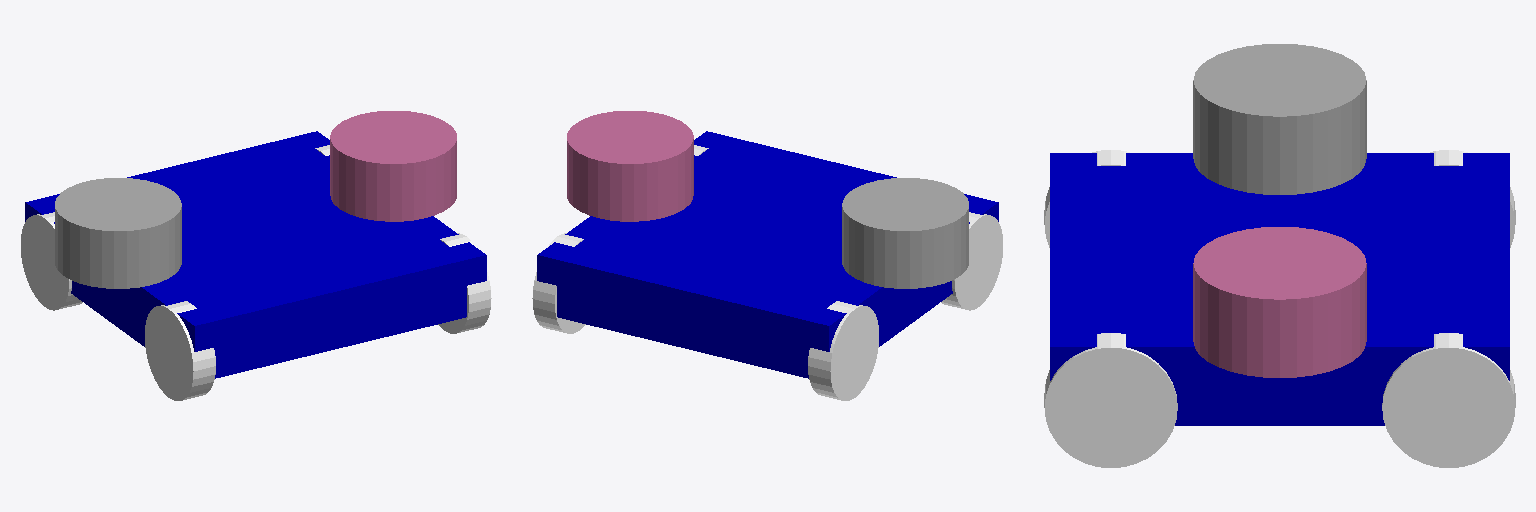
URDF robot description (rc_baseplate):
<?xml version="1.0"?>
<robot name="rc_baseplate">
  <material name="blue">
    <color rgba="0 0 0.8 1" />
  </material>

  <material name="white">
    <color rgba="1 1 1 1" />
  </material>

<link name="base_footprint">
  <visual>
    <origin xyz="0 0 0" rpy="0 0 0" />
    <geometry>
      <box size="0.05 0.05 0.001" />
    </geometry>
  </visual>
</link>

<joint name="base_joint" type="fixed">
  <origin xyz="0 0 0" rpy="0 0 0" />
  <parent link="base_footprint"/>
  <child link="base_link" />
</joint>

  <!-- 底盘本体 -->
  <link name="base_link">
    <visual>
      <geometry>
        <box size="0.53 0.532 0.1" />
      </geometry>
      <material name="blue" />
    </visual>
    <collision>
      <geometry>
        <box size="0.53 0.532 0.1" />
      </geometry>
    </collision>
    <inertial>
      <mass value="20" />
      <inertia ixx="4.00538" ixy="0.0" ixz="0.0" iyy="4.00538" iyz="0.0" izz="0.51076" />
    </inertial>
  </link>

  <!-- 轮子 -->
  <link name="wheel_lf">
    <visual>
      <geometry>
        <cylinder length="0.0409" radius="0.077" />
      </geometry>
      <material name="white" />
    </visual>
    <collision>
      <geometry>
        <cylinder length="0.0409" radius="0.077" />
      </geometry>
      <material name="white" />
    </collision>
  </link>
  <link name="wheel_rf">
    <visual>
      <geometry>
        <cylinder length="0.0409" radius="0.077" />
      </geometry>
      <material name="white" />
    </visual>
    <collision>
      <geometry>
        <cylinder length="0.0409" radius="0.077" />
      </geometry>
      <material name="white" />
    </collision>
  </link>
  <link name="wheel_lb">
    <visual>
      <geometry>
        <cylinder length="0.0409" radius="0.077" />
      </geometry>
      <material name="white" />
    </visual>
    <collision>
      <geometry>
        <cylinder length="0.0409" radius="0.077" />
      </geometry>
      <material name="white" />
    </collision>
  </link>
  <link name="wheel_rb">
    <visual>
      <geometry>
        <cylinder length="0.0409" radius="0.077" />
      </geometry>
      <material name="white" />
    </visual>
    <collision>
      <geometry>
        <cylinder length="0.0409" radius="0.077" />
      </geometry>
      <material name="white" />
    </collision>
  </link>


  <!-- 轮子与底盘链接的关节 -->
  <joint name="base_to_wheel_lf" type="fixed">
    <parent link="base_link" />
    <child link="wheel_lf" />
    <origin xyz="-0.25 0.195 -0.025" rpy="0 1.57075 0" />
    
  </joint>
  <joint name="base_to_wheel_rf" type="fixed">
    <parent link="base_link" />
    <child link="wheel_rf" />
    <origin xyz="0.25 0.195 -0.025" rpy="0 -1.57075 0" />
    
  </joint>
  <joint name="base_to_wheel_lb" type="fixed">
    <parent link="base_link" />
    <child link="wheel_lb" />
    <origin xyz="-0.25 -0.195 -0.025" rpy="0 1.57075 0" />
  </joint>
  <joint name="base_to_wheel_rb" type="fixed">
    <parent link="base_link" />
    <child link="wheel_rb" />
    <origin xyz="0.25 -0.195 -0.025" rpy="0 -1.57075 0" />
    
  </joint>

  <!-- 雷达1 -->
  <link name="laser1">
    <visual>
      <geometry>
        <cylinder length="0.1" radius="0.1" />
      </geometry>
    </visual>
  </link>
  <joint name="laser1_joint" type="fixed">
    <origin rpy="0 0 0" xyz="0.25 0 0.1" />
    <parent link="base_link" />
    <child link="laser1" />
  </joint>

    <!-- 雷达2 -->
  <link name="laser2">
    <visual>
      <geometry>
        <cylinder length="0.1" radius="0.1" />
      </geometry>
    </visual>
  </link>
  <joint name="laser2_joint" type="fixed">
    <origin rpy="0 0 3.1416" xyz="-0.25 0.0 0.1" />
    <parent link="base_link" />
    <child link="laser2" />
  </joint>

  <gazebo reference="laser1">
    <sensor type="ray" name="head_hokuyo_sensor">
      <pose>0.25 0 0.2 0 0 0</pose>
      <visualize>false</visualize>
      <update_rate>10</update_rate>
      <ray>
        <scan>
          <horizontal>
            <samples>1081</samples>
            <resolution>1</resolution>
            <min_angle>-3.1415</min_angle> <!-- -90° -->
            <max_angle>3.1415</max_angle>  <!-- 90° -->
          </horizontal>
        </scan>
        <range>
          <min>0.03</min>
          <max>100.0</max>
          <resolution>0.01</resolution>
        </range>
        <noise>
          <type>gaussian</type>
          <mean>0.0</mean>
          <stddev>0.01</stddev>
        </noise>
      </ray>
      <plugin name="gazebo_ros_hokuyo_controller" filename="libgazebo_ros_laser.so">
        <topicName>scan1</topicName>
        <frameName>base_link</frameName>
      </plugin>
    </sensor>
  </gazebo>

<gazebo reference="laser2">
    <sensor type="ray" name="head_hokuyo_sensor">
      <pose>-0.25 0 0.2 0 0 3.1416</pose>
      <visualize>false</visualize>
      <update_rate>10</update_rate>
      <ray>
        <scan>
          <horizontal>
            <samples>1081</samples>
            <resolution>1</resolution>
            <min_angle>-3.1415</min_angle>  <!-- -180° -->
          <max_angle>3.1415</max_angle>   <!-- 180° -->
          </horizontal>
        </scan>
        <range>
          <min>0.03</min>
          <max>100.0</max>
          <resolution>0.01</resolution>
        </range>
        <noise>
          <type>gaussian</type>
          <mean>0.0</mean>
          <stddev>0.01</stddev>
        </noise>
      </ray>
      <plugin name="gazebo_ros_hokuyo_controller" filename="libgazebo_ros_laser.so">
        <topicName>scan2</topicName>
        <frameName>base_link</frameName>
      </plugin>
    </sensor>
  </gazebo>


  <gazebo>
    <plugin name="base_controller" filename="libgazebo_ros_planar_move.so">
    <commandTopic>cmd_vel</commandTopic>
    <cmdTimeout>-1.0</cmdTimeout>
    <odometryTopic>odom</odometryTopic>
    <odometryFrame>odom</odometryFrame>
    <odometryRate>20.0</odometryRate>
    <robotBaseFrame>base_footprint</robotBaseFrame>
    </plugin>
</gazebo>
</robot>

--- Facts derived from the render (not from the file) ---
The picture shows the robot from 3 angles, left to right: view 1: azimuth 30°, elevation 25°; view 2: azimuth 150°, elevation 25°; view 3: azimuth 270°, elevation 25°; orthographic projection.
Model rc_baseplate with 8 links and 7 joints (7 fixed), rooted at base_footprint, posed all joints at 0.
Links seen in each view (by area): view 1: base_link, laser2, laser1, wheel_lb, wheel_lf, wheel_rb; view 2: base_link, laser2, laser1, wheel_lf, wheel_lb, wheel_rf; view 3: base_link, laser1, laser2, wheel_rf, wheel_rb, wheel_lf, wheel_lb.
Boxes of the visible links, <box> form: base_link: <box>25,131,486,378</box>; laser2: <box>55,178,181,288</box>; laser1: <box>330,111,456,221</box>; wheel_lb: <box>145,301,215,400</box>; wheel_lf: <box>21,212,82,310</box>; wheel_rb: <box>438,233,491,333</box>; base_link: <box>537,131,998,378</box>; laser2: <box>842,178,968,288</box>; laser1: <box>567,111,693,221</box>; wheel_lf: <box>808,301,878,400</box>; wheel_lb: <box>941,212,1002,310</box>; wheel_rf: <box>532,233,585,333</box>; base_link: <box>1050,153,1509,425</box>; laser1: <box>1193,227,1366,377</box>; laser2: <box>1193,44,1366,194</box>; wheel_rf: <box>1382,333,1515,467</box>; wheel_rb: <box>1044,333,1177,467</box>; wheel_lf: <box>1430,150,1515,247</box>; wheel_lb: <box>1044,150,1129,247</box>.
Size in the robot's own frame: 0.7 by 0.544 by 0.252 metres.
Geometry: primitives only (box / cylinder / sphere), no mesh files.
